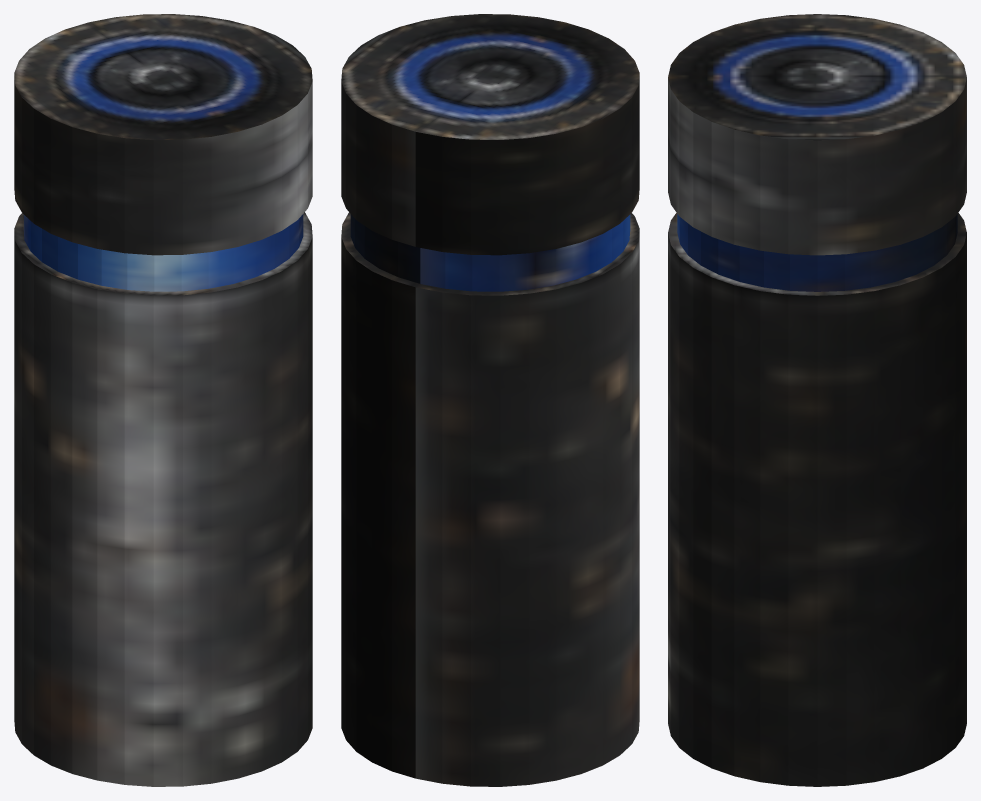
The model's file is flash_grenade.dae.
The picture shows the model from 3 angles, left to right: view 1: azimuth 30°, elevation 25°; view 2: azimuth 150°, elevation 25°; view 3: azimuth 270°, elevation 25°; orthographic projection.
Parts seen in each view (by area): view 1: Cylinder; view 2: Cylinder; view 3: Cylinder.
Boxes of the visible parts, x1,y1,x2,y2 form: Cylinder: (14,14,312,786); Cylinder: (341,14,639,786); Cylinder: (668,14,966,786).
Bounding box in the file's own units: 0.224 × 0.224 × 0.5346.
